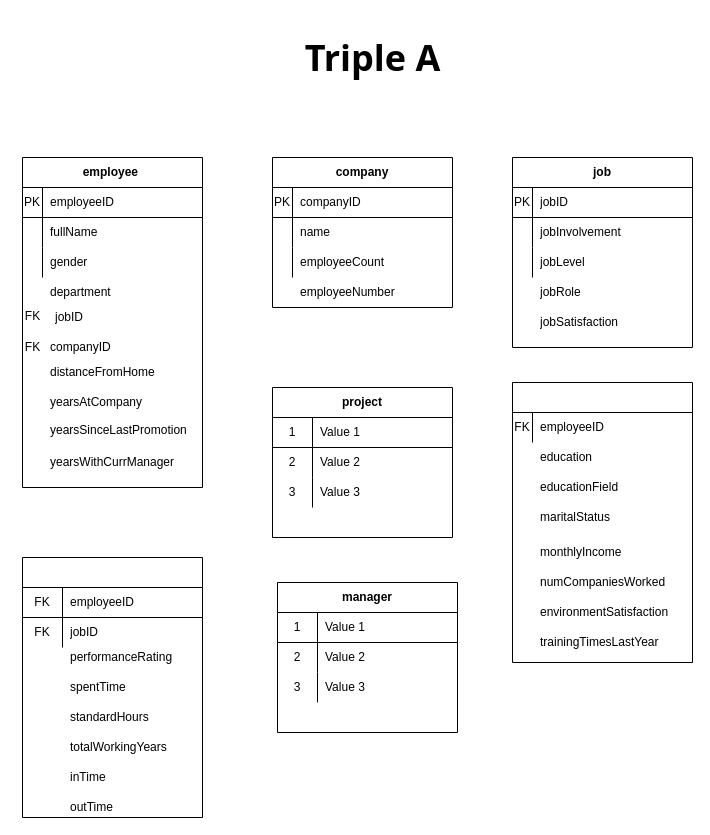
This 710x835 diagram has some shape labels left out. Each missing label, with the box of its shape:
employeeActivity: (22, 556, 202, 818)
employeeAdditionalIfno: (512, 382, 692, 662)
